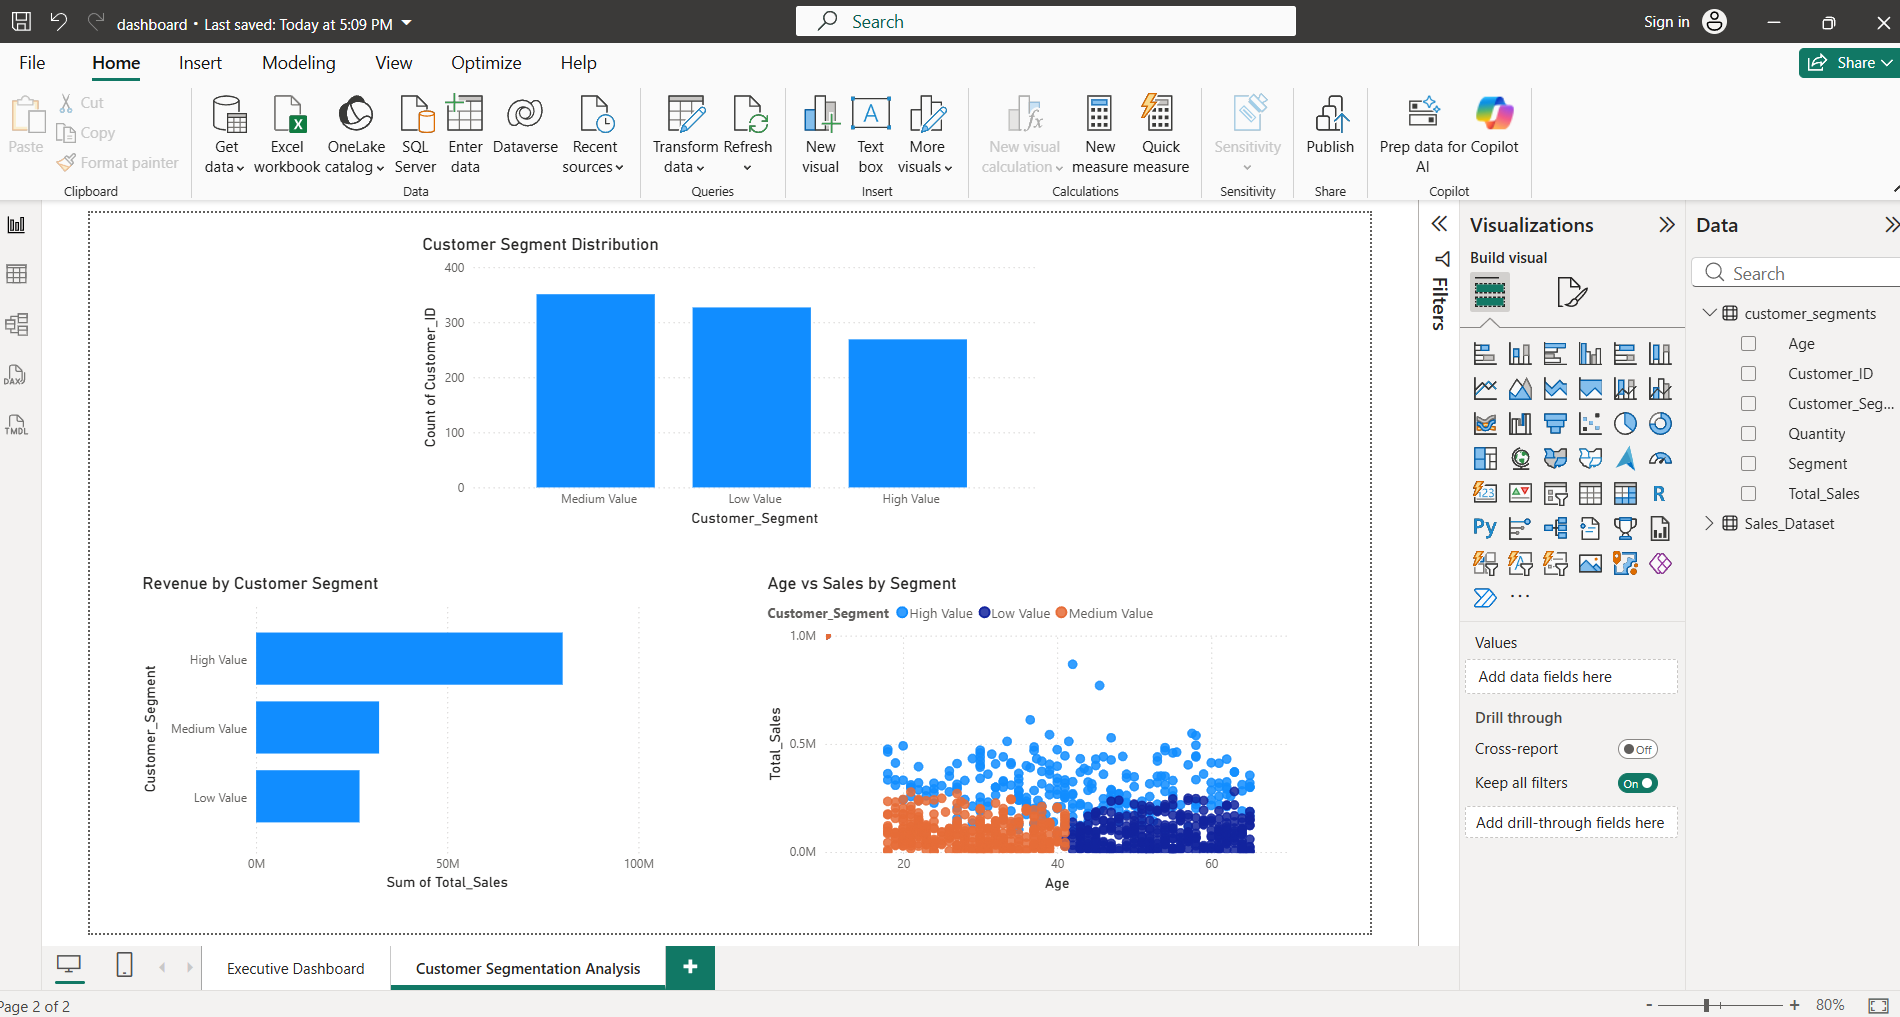

Layout of this report page (visuals, bound fields, positions):
{"tool":"powerbi","page":{"name":"Customer Segmentation Analysis","canvas":[1280,720],"ordinal":1},"visuals":[{"type":"clusteredColumnChart","title":"Customer Segment Distribution","fields":{"Category":["customer_segments.Customer_Segment"],"Y":["CountNonNull(customer_segments.Customer_ID)"]},"box":[327.7,20.8,623.6,297.1],"z":0},{"type":"clusteredBarChart","title":"Revenue by Customer Segment","fields":{"Category":["customer_segments.Customer_Segment"],"Y":["Sum(customer_segments.Total_Sales)"]},"box":[47.7,359.5,522.1,322.8],"z":1},{"type":"scatterChart","title":"Age vs Sales by Segment","fields":{"X":["customer_segments.Age"],"Y":["customer_segments.Total_Sales"],"Series":["customer_segments.Customer_Segment"]},"box":[672.6,359.5,538,322.8],"z":2}]}

Visuals, with their boxes on the page's 1280x720 design canvas (x1, y1, x2, y2). These are canvas units, not pixel positions in the 1900x1017 screenshot, which may show the page scaled, cropped or inside an application window:
"Customer Segment Distribution" clusteredColumnChart: bbox=[328, 21, 951, 318]
"Revenue by Customer Segment" clusteredBarChart: bbox=[48, 360, 570, 682]
"Age vs Sales by Segment" scatterChart: bbox=[673, 360, 1211, 682]
